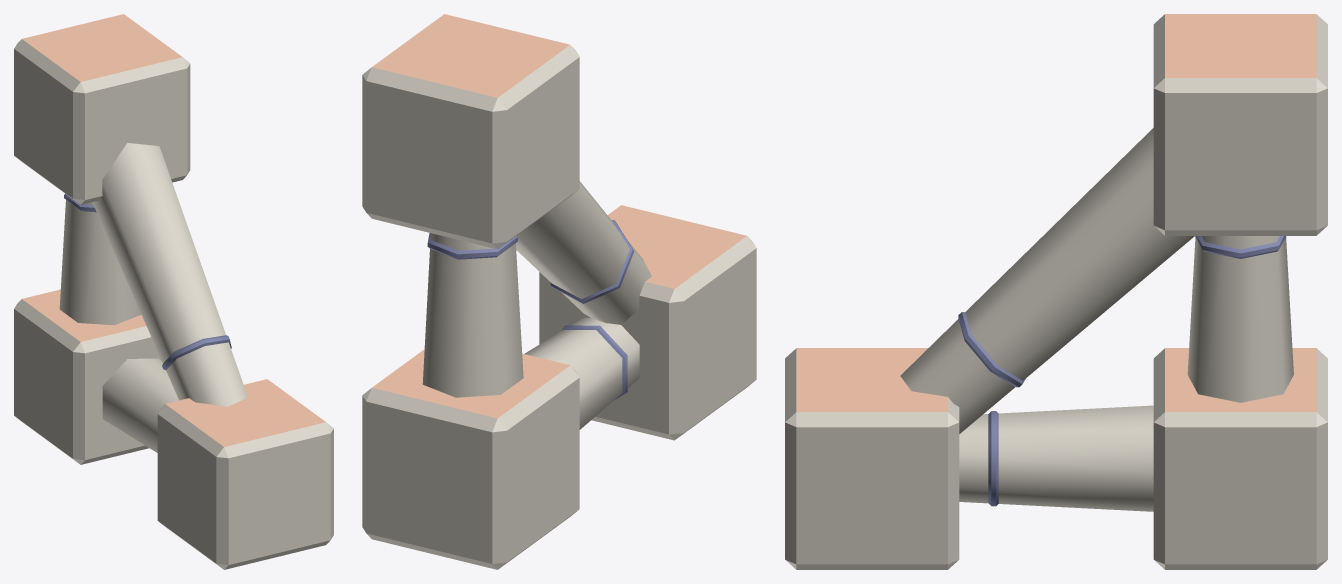
The model's file is R4C_STRUT_RAMP_LOD1.fbx.
3 views of the same model, side by side, from view 1: azimuth 30°, elevation 25°; view 2: azimuth 150°, elevation 25°; view 3: azimuth 270°, elevation 25° (orthographic). The views are drawn at different scales.
Visible parts, largest first — view 1: R4C_STRUT_RAMP_LOD1; view 2: R4C_STRUT_RAMP_LOD1; view 3: R4C_STRUT_RAMP_LOD1.
Boxes of the visible parts, bbox=[...] form: R4C_STRUT_RAMP_LOD1: bbox=[14, 14, 333, 569]; R4C_STRUT_RAMP_LOD1: bbox=[362, 14, 756, 569]; R4C_STRUT_RAMP_LOD1: bbox=[785, 14, 1327, 569].
Size of the model in its own units: 0.52 by 1.62 by 1.62.
